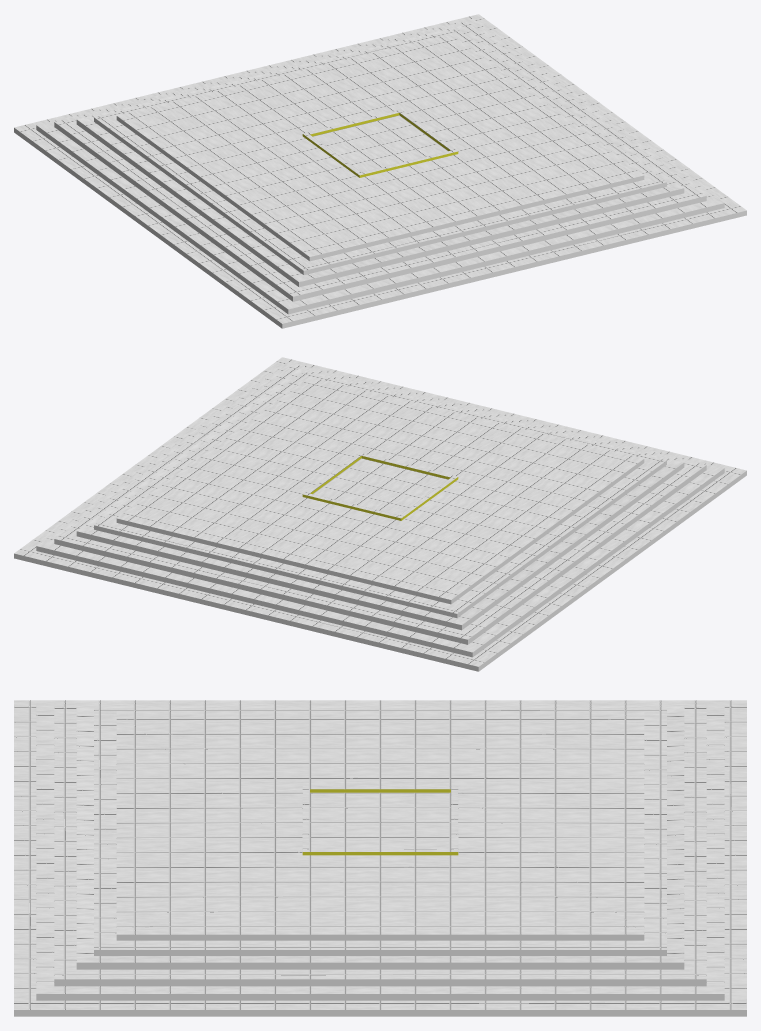
The model's file is TOWER_F0.fbx.
The picture shows the model from 3 angles, top to bottom: view 1: azimuth 30°, elevation 25°; view 2: azimuth 150°, elevation 25°; view 3: azimuth 270°, elevation 25°; orthographic projection. The views are drawn at different scales.
Parts seen in each view (by area): view 1: TOWER_F0; view 2: TOWER_F0; view 3: TOWER_F0.
Part boxes in pixels (x1,y1,x2,y2): TOWER_F0: [14, 14, 746, 328]; TOWER_F0: [14, 357, 746, 671]; TOWER_F0: [14, 700, 746, 1016].
Bounding box in the file's own units: 417 × 417 × 26.85.
